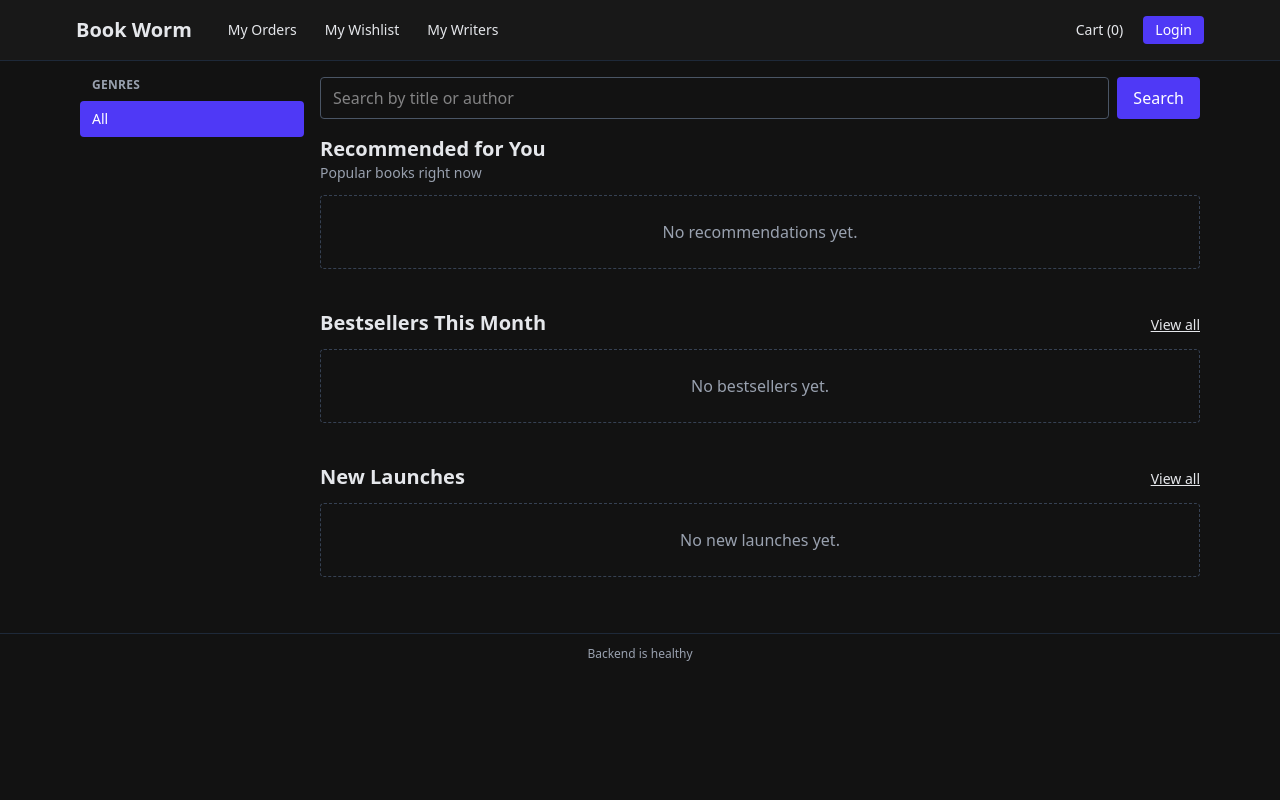
Test: LoginModal › shows the generic error for wrong credentials
The width and height of the screenshot is (1280, 800).
Click the button "Login". click: [1174, 30]
box: [1143,16,1204,44]
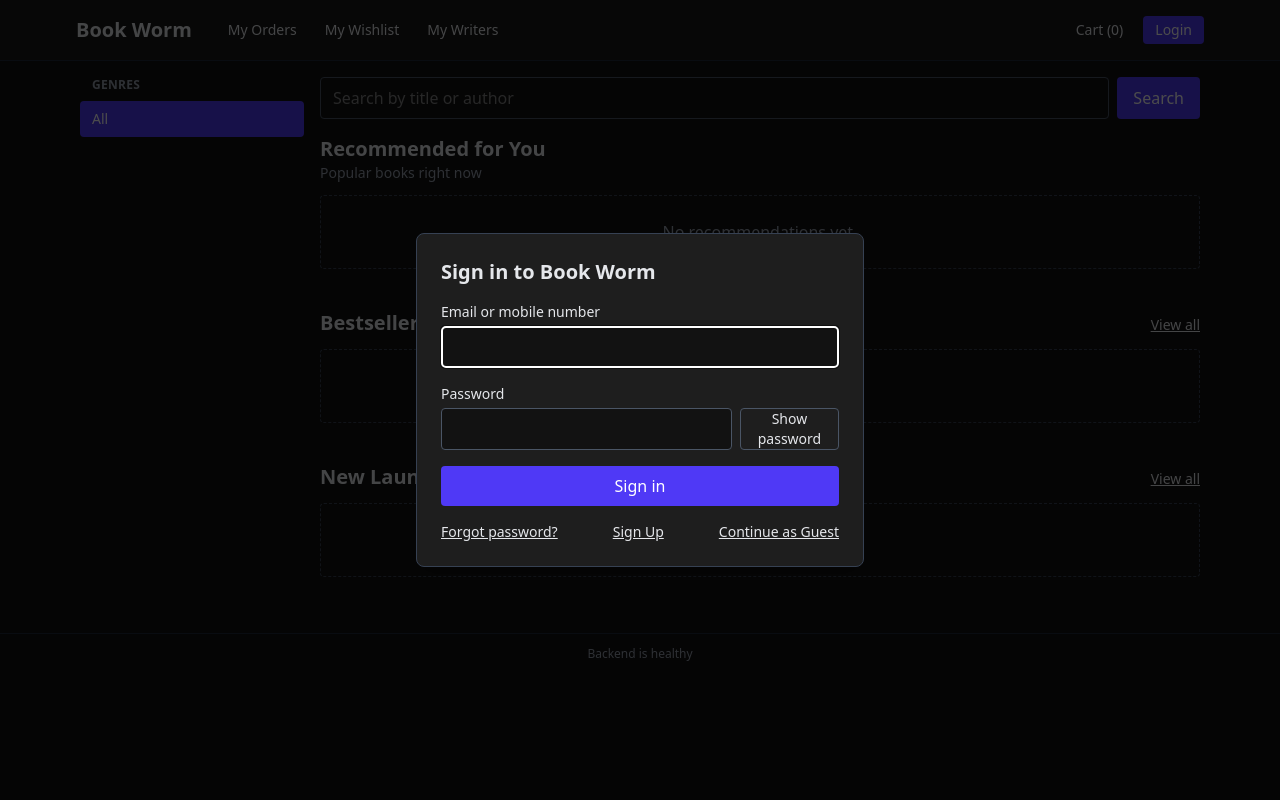
Type "a@example.com" into the field labelled "Email or mobile number". click: [640, 347]
box: [441,326,839,368]
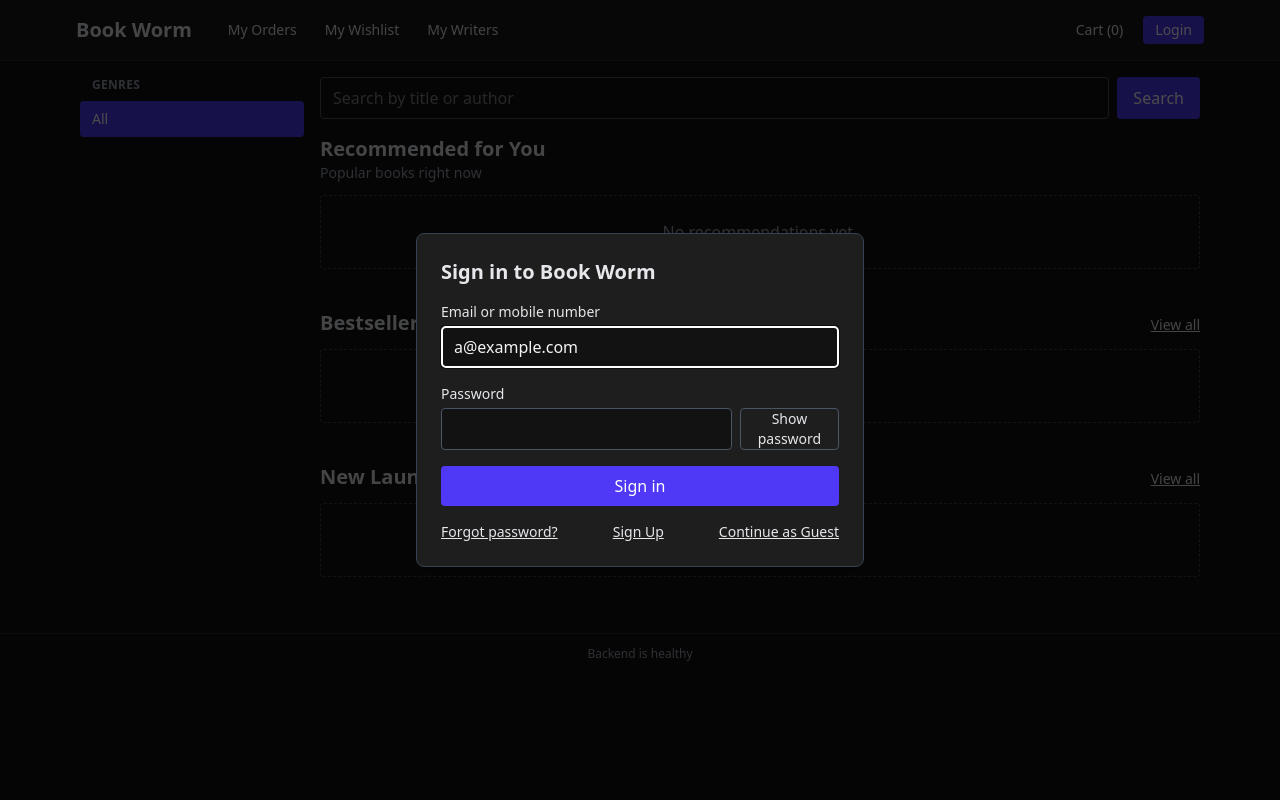
Type "Wrong1234" into the password field labelled "Password". click: [586, 429]
box: [441,408,732,450]
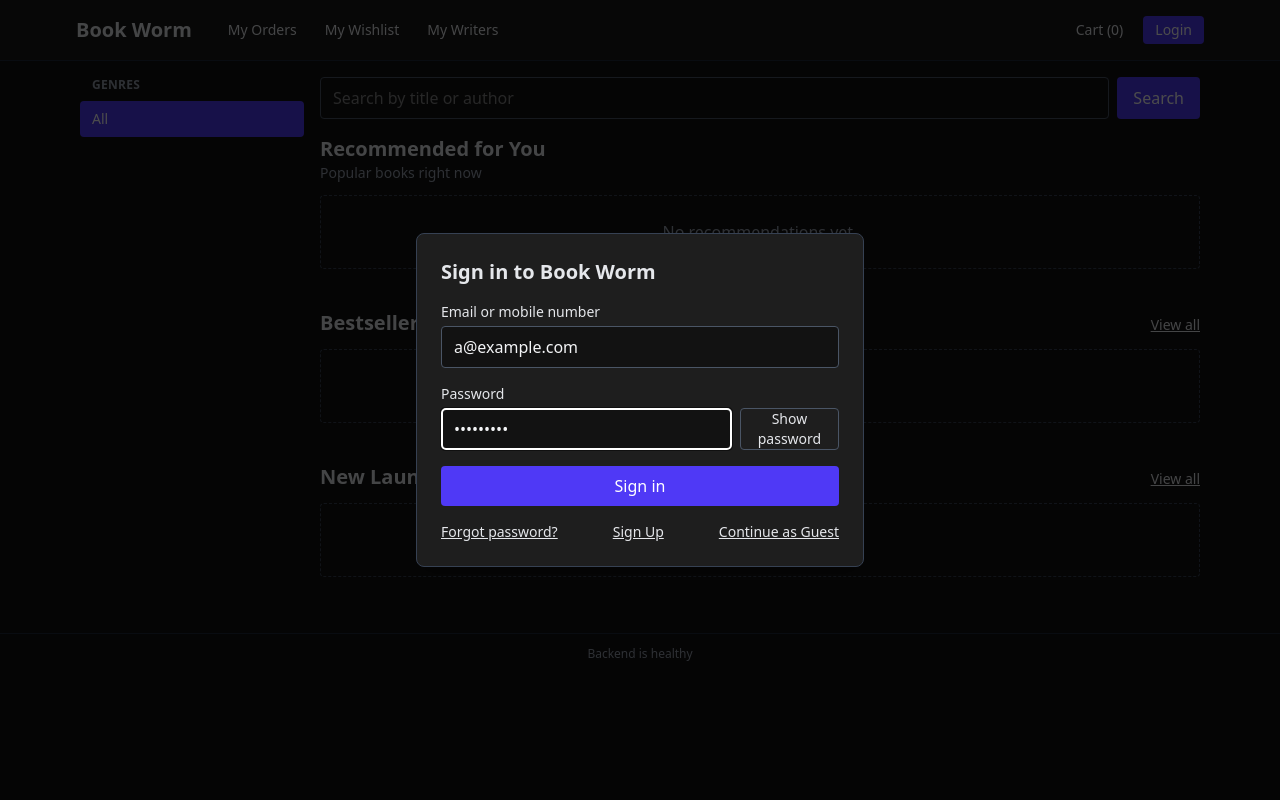
Click the button "Sign in". click: [640, 486]
box: [441,466,839,506]
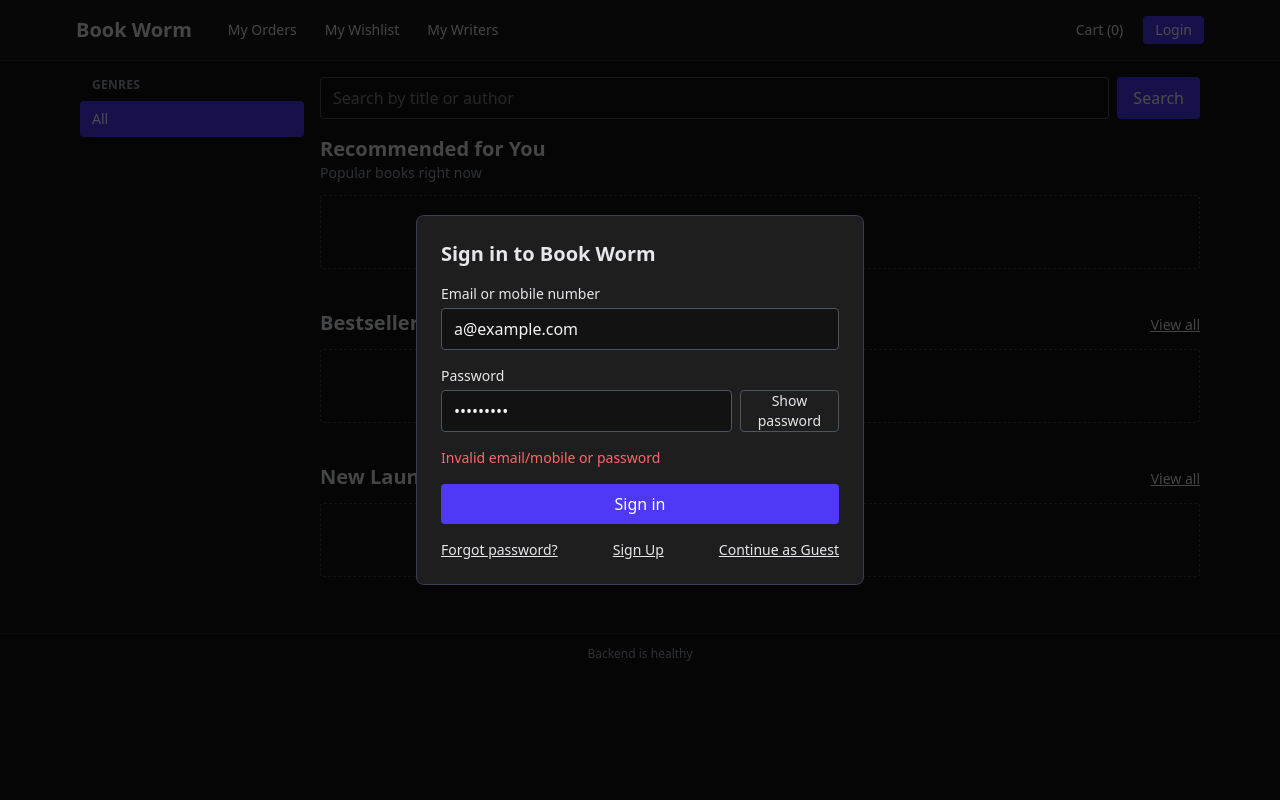
Expected: the message reads "Invalid email/mobile or password", [441,448,660,467]
